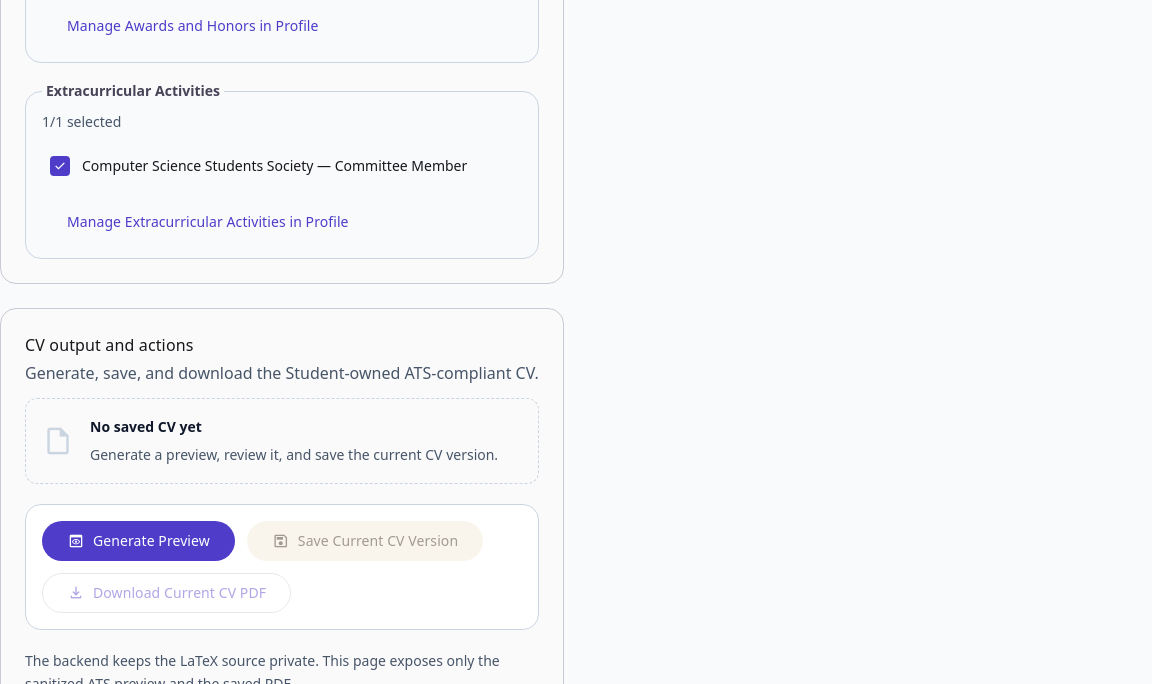
Test: CvBuilderPage › generates, dirties, updates, and saves only the confirmed preview
The image size is (1152, 684).
(page scrolled)
Click the button "Generate Preview".
click(138, 541)  # box [42, 521, 235, 561]
(page scrolled)
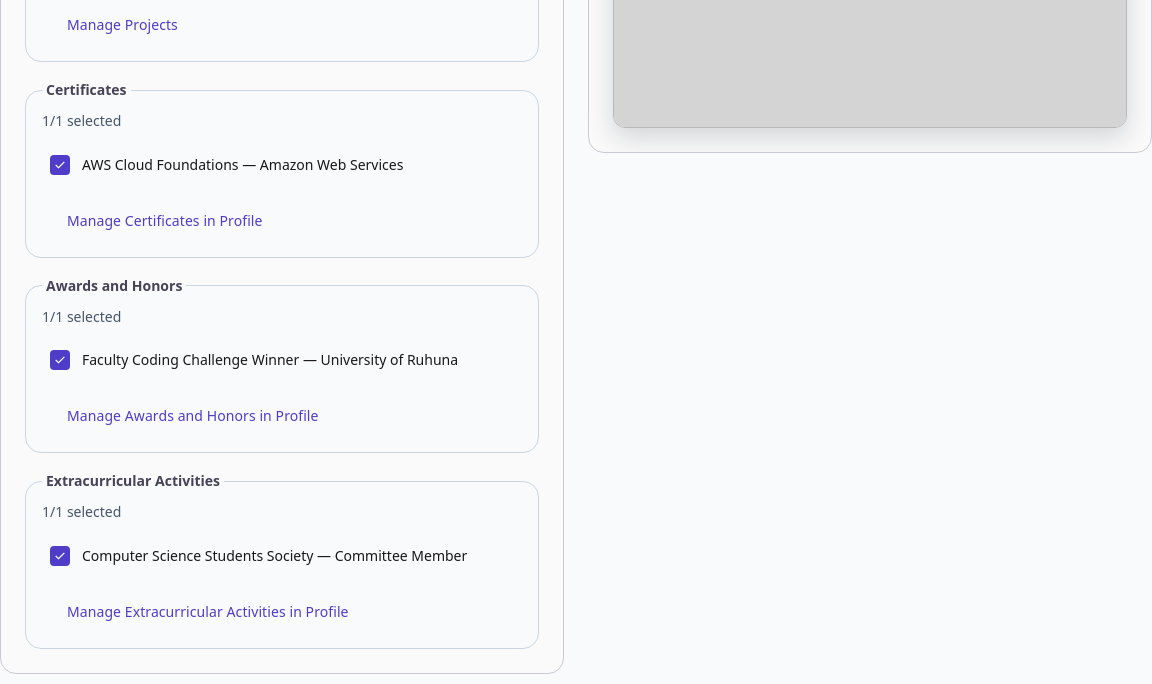
Click the checkbox labelled "Faculty Coding Challenge Winner — University of Ruhuna".
click(254, 360)  # box [50, 350, 458, 370]
(page scrolled)
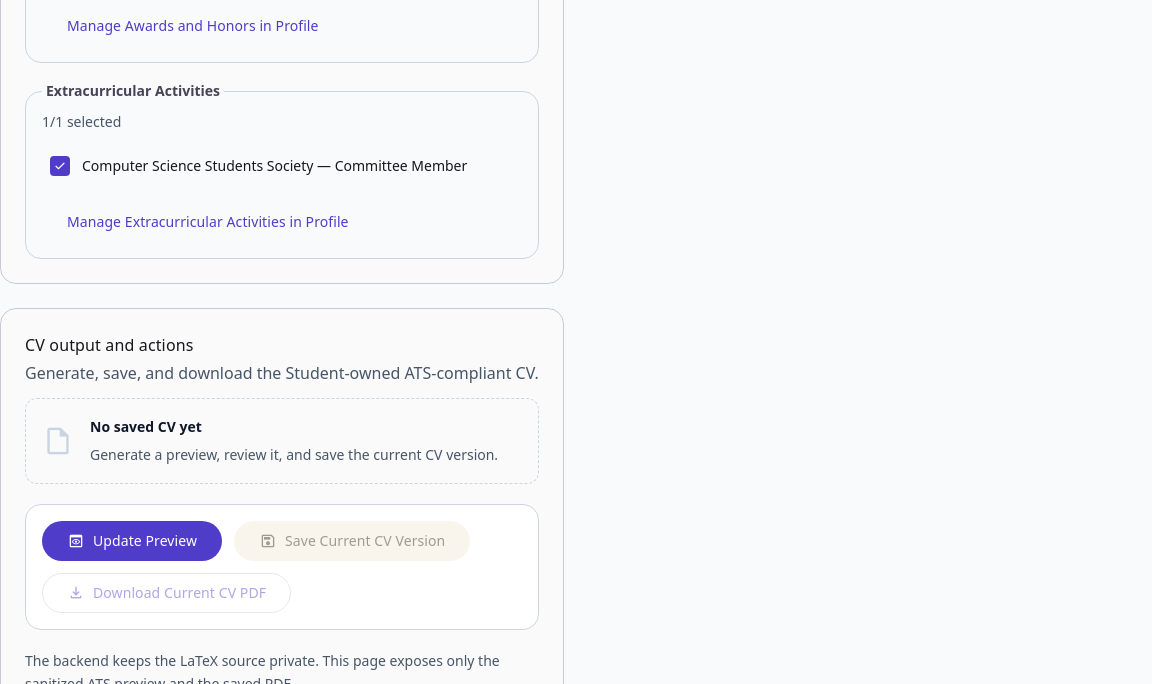
Expected: the button "Update Preview" is shown
Expected: the button "Save Current CV Version" is disabled, [234, 521, 470, 561]
Click the button "Update Preview".
click(132, 541)  # box [42, 521, 222, 561]
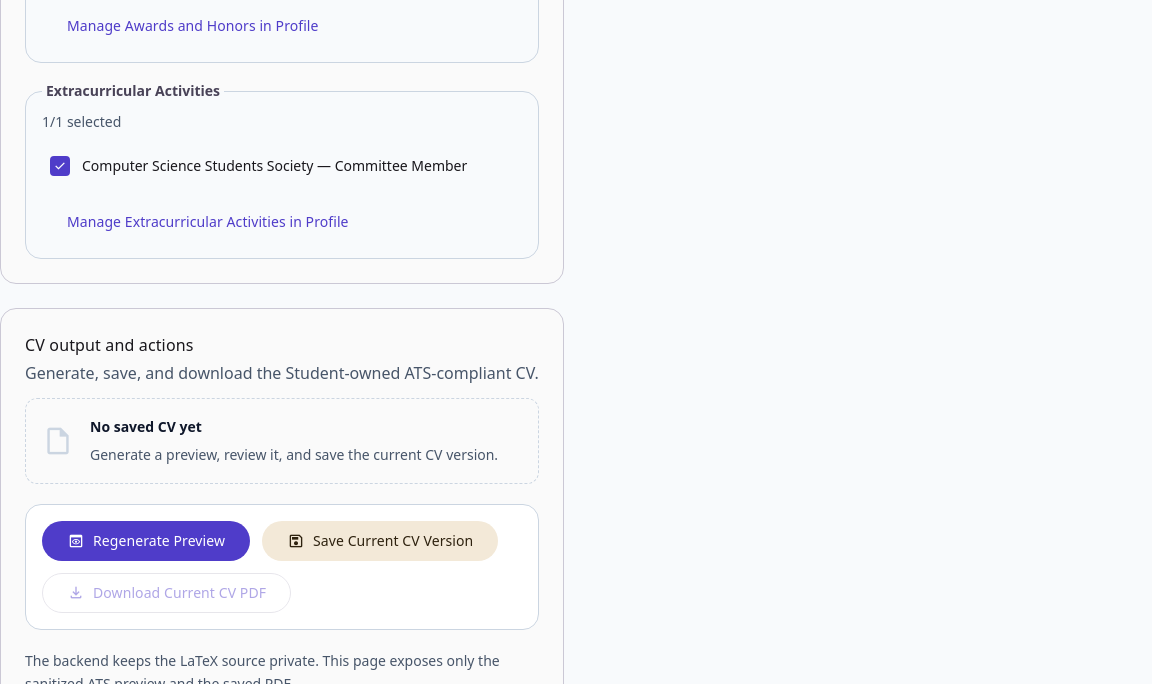
Expected: the button "Save Current CV Version" is enabled
Click the button "Save Current CV Version".
click(380, 541)  # box [262, 521, 498, 561]
(page scrolled)
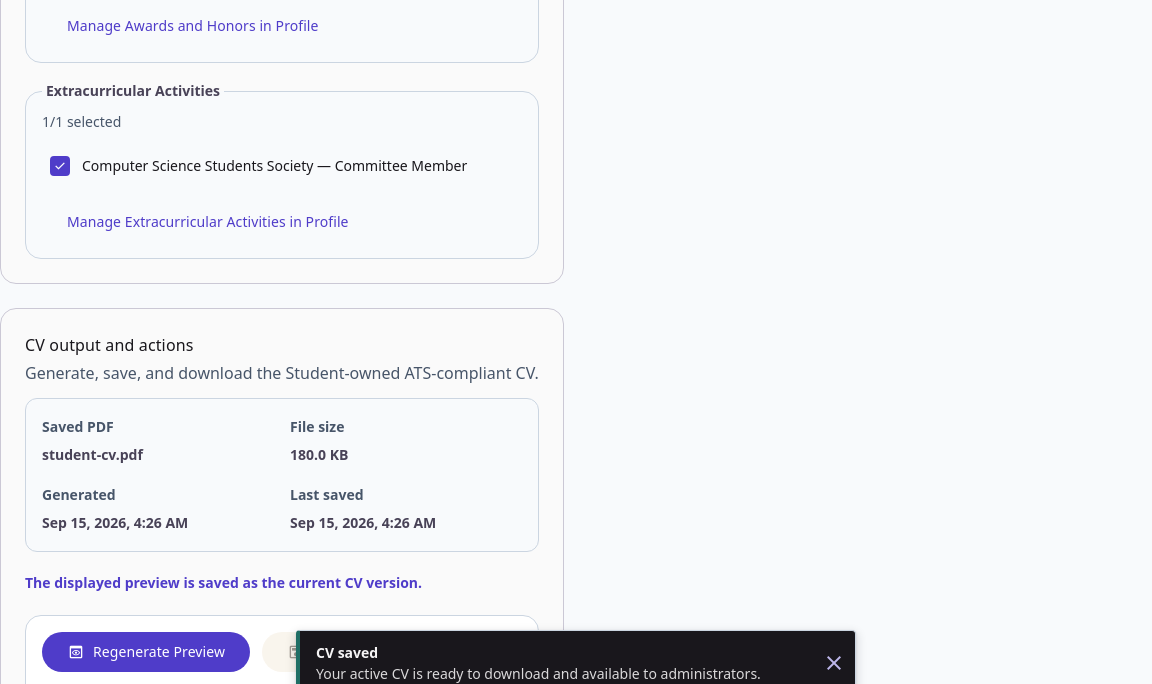
Expected: the text "CV saved" is shown, [316, 643, 378, 662]
Expected: the button "Save Current CV Version" is disabled, [262, 632, 498, 672]
Expected: the text "The displayed preview is saved as the current CV version." is shown, [25, 573, 422, 592]
